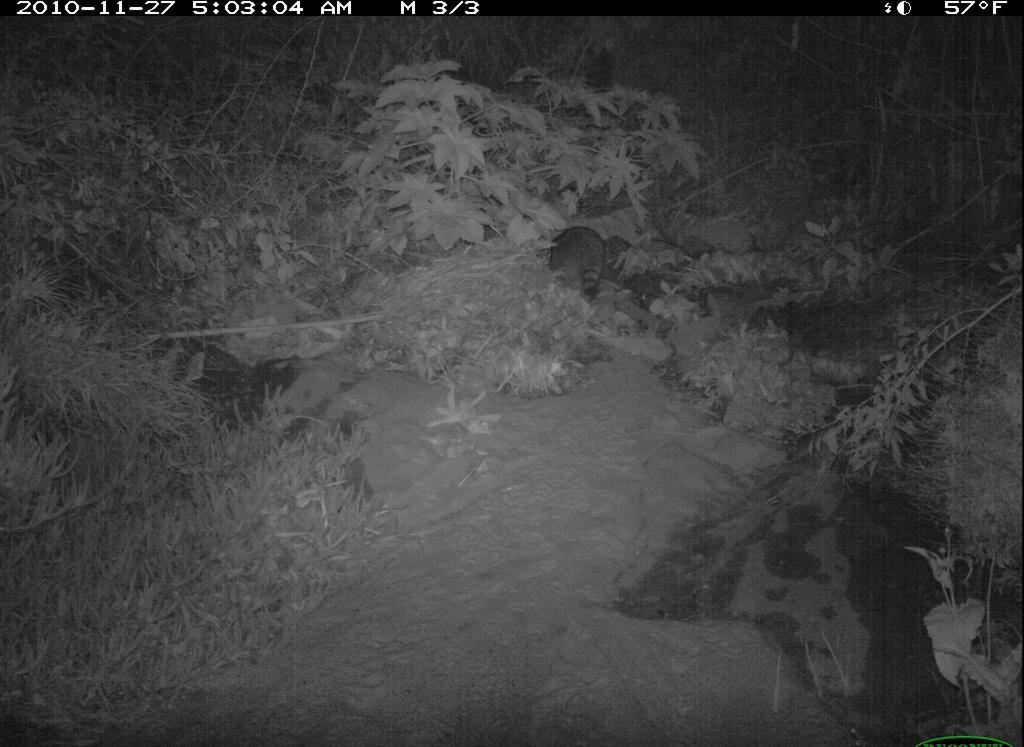raccoon: (547, 213, 612, 301)
